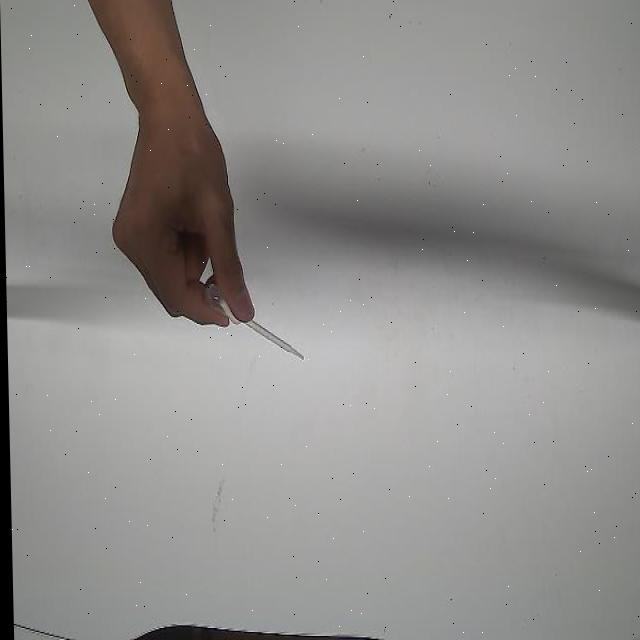Disposable Pasteur Pipette - Sealed: (202, 279, 308, 366)
